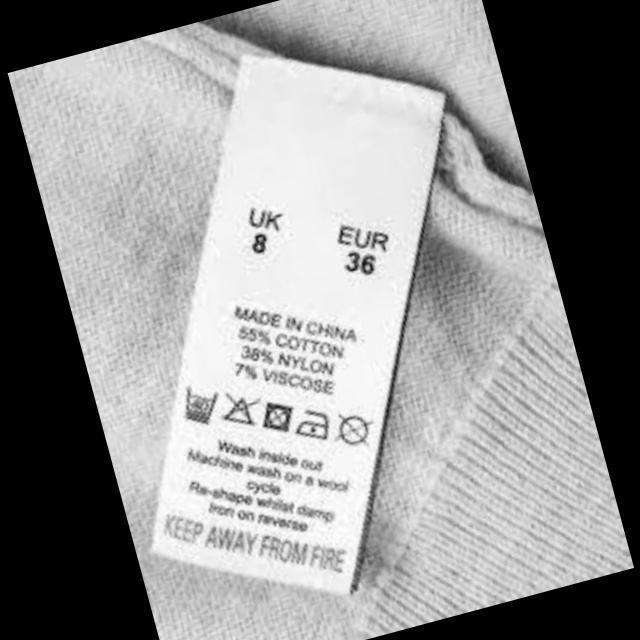40C: (171, 375, 226, 434)
DN_bleach: (214, 384, 265, 436)
DN_dry_clean: (322, 403, 380, 458)
DN_tumble_dry: (250, 391, 301, 441)
iron_low: (284, 399, 338, 453)
